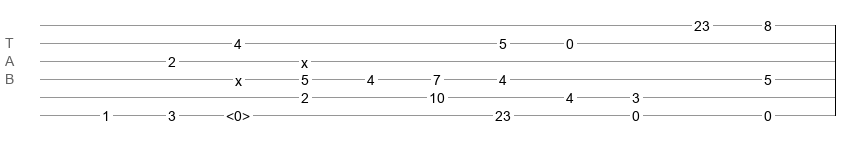0: (566, 36, 574, 46), (632, 108, 640, 118), (764, 108, 772, 118)
1: (102, 108, 110, 118)
10: (429, 90, 445, 100)
2: (168, 54, 176, 64), (301, 90, 309, 100)
23: (495, 108, 511, 118), (694, 18, 710, 28)
3: (168, 108, 176, 118), (632, 90, 640, 100)
4: (234, 36, 242, 46), (367, 72, 375, 82), (499, 72, 507, 82), (566, 90, 574, 100)
5: (301, 72, 309, 82), (499, 36, 507, 46), (764, 72, 772, 82)
7: (433, 72, 441, 82)
8: (764, 18, 772, 28)
harmonic: (226, 108, 250, 118)
x: (235, 73, 242, 81), (301, 55, 308, 63)
